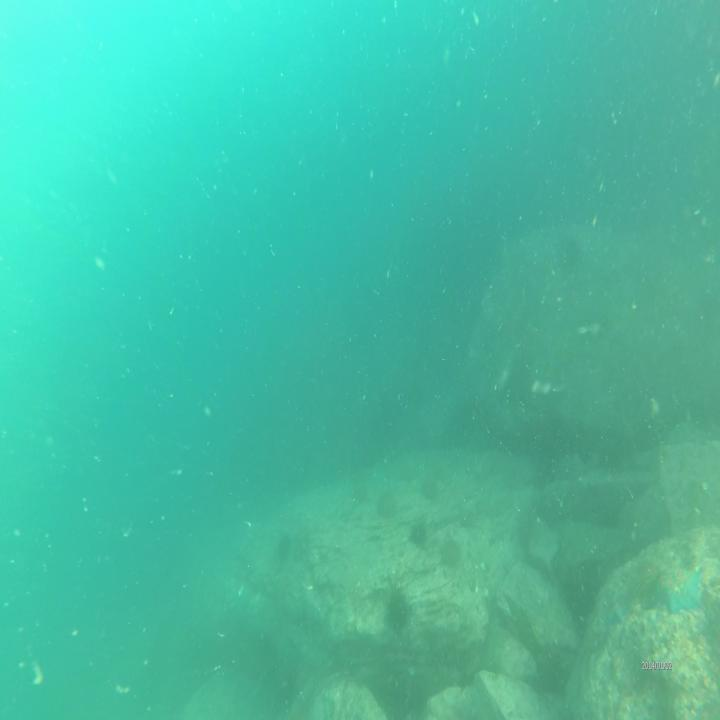echinus: (380, 590, 410, 628), (442, 532, 459, 572), (272, 536, 290, 570), (407, 514, 426, 545), (376, 492, 396, 520), (291, 530, 311, 556), (422, 477, 440, 501), (349, 481, 366, 498)
starfish: (650, 564, 705, 611)
